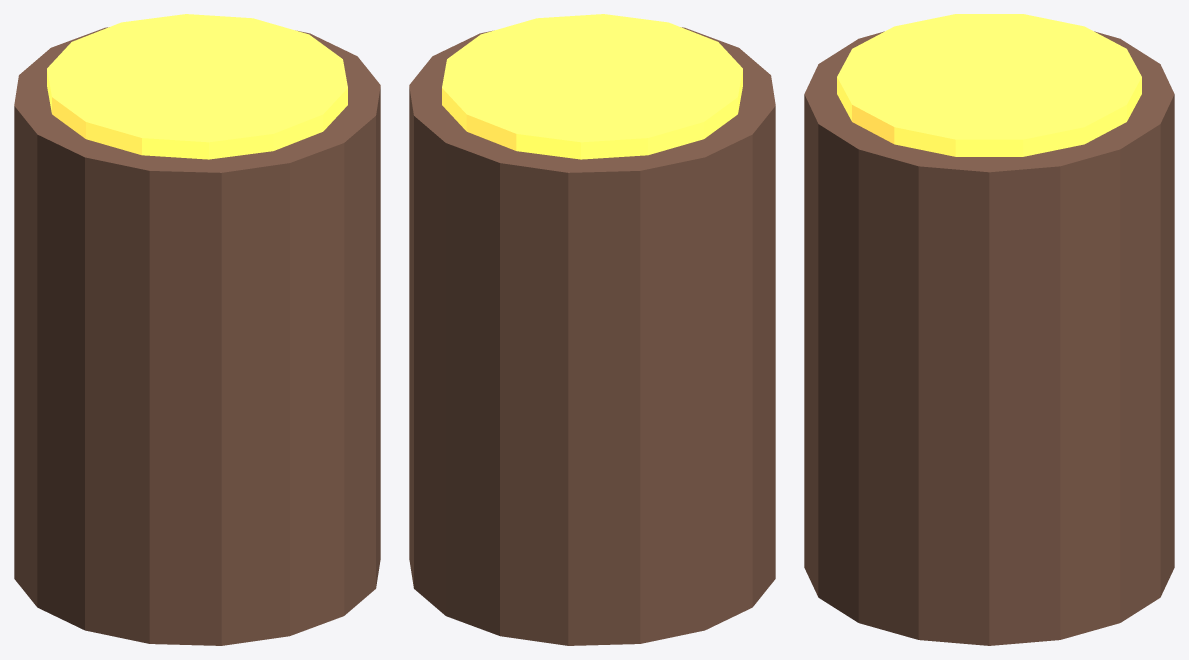
Rendered from barrel_fire.glb.
3 renders of one model, left to right at view 1: azimuth 30°, elevation 25°; view 2: azimuth 150°, elevation 25°; view 3: azimuth 270°, elevation 25°, orthographic.
Visible parts, largest first — view 1: Barrel, CoalCore; view 2: Barrel, CoalCore; view 3: Barrel, CoalCore.
Part boxes in pixels (x1=…): Barrel: x1=14, y1=27, x2=380, y2=645; CoalCore: x1=47, y1=14, x2=347, y2=159; Barrel: x1=409, y1=27, x2=775, y2=645; CoalCore: x1=442, y1=14, x2=742, y2=159; Barrel: x1=804, y1=31, x2=1174, y2=645; CoalCore: x1=837, y1=14, x2=1141, y2=156.
Size of what is drawn, in the model's own units: 0.68 by 0.995 by 0.68.
